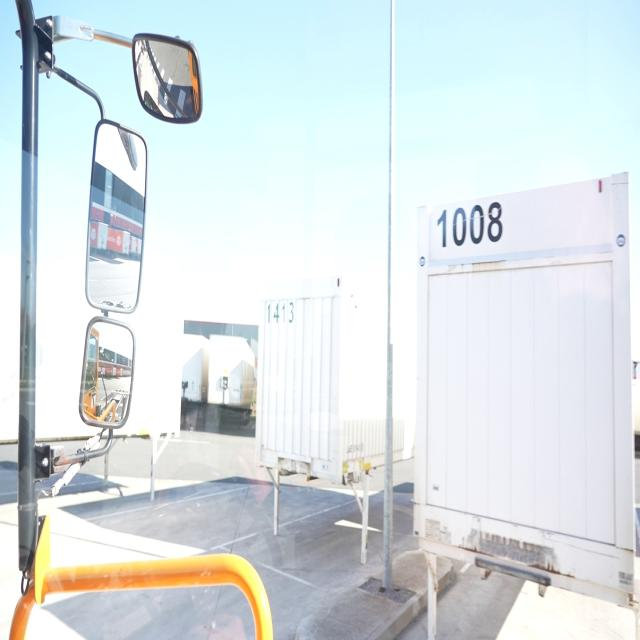Code: (436, 194, 504, 253), (263, 294, 295, 328)
